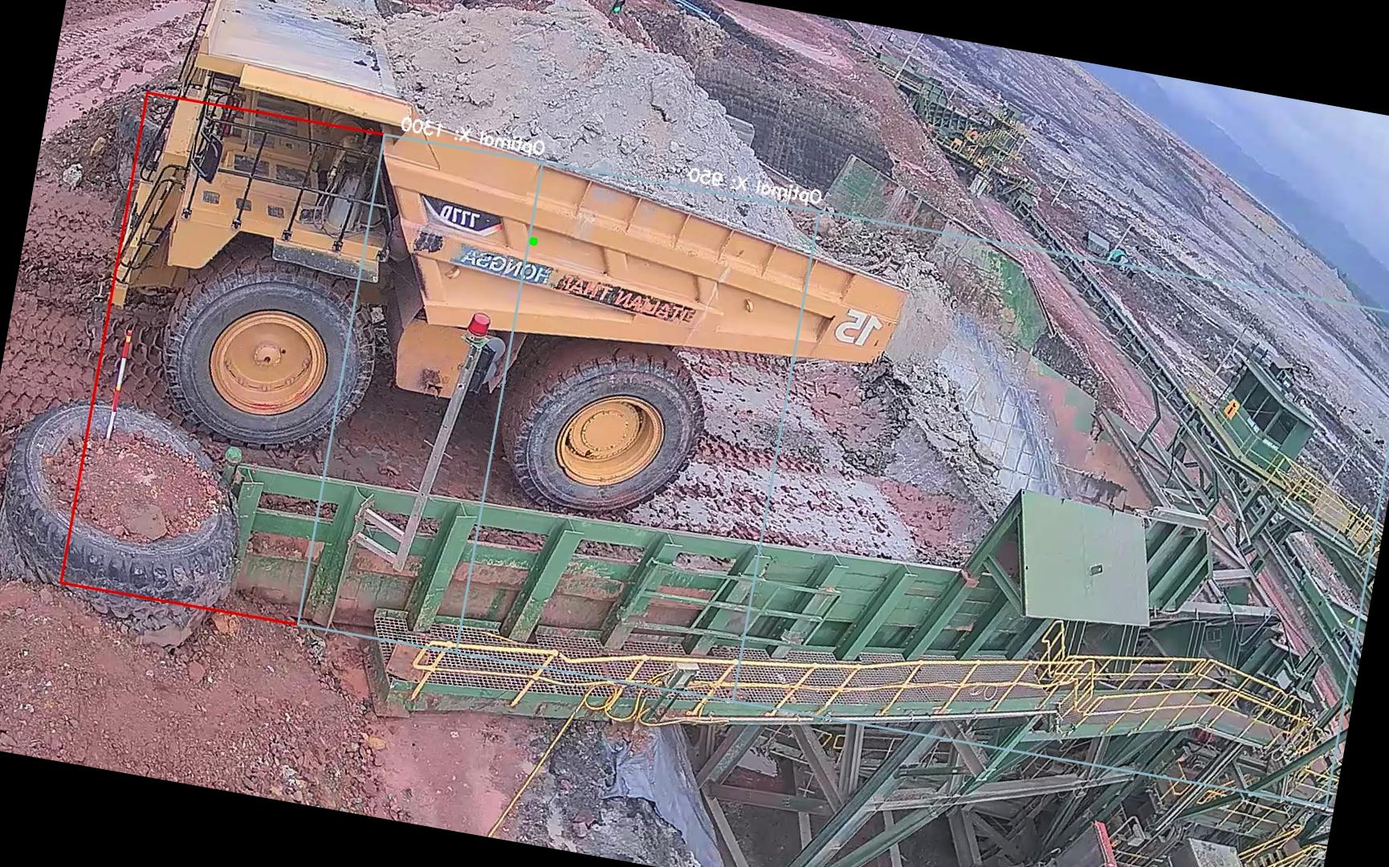company: (446, 240, 710, 331)
full_load: (359, 0, 816, 222)
mining_truck: (75, 0, 954, 549)
tail_number: (824, 299, 890, 359)
truck_size: (420, 191, 505, 240)
